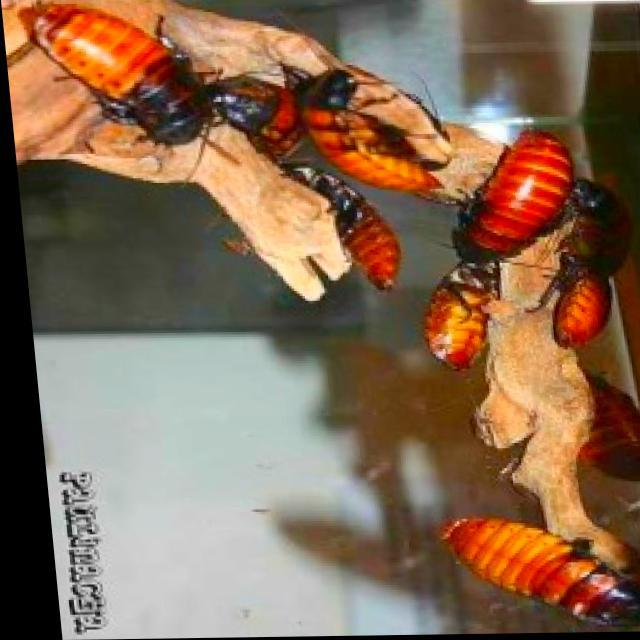cockroach: (42, 1, 216, 167), (438, 511, 640, 639), (296, 56, 456, 206), (441, 112, 579, 278), (291, 156, 419, 309), (420, 242, 518, 391), (548, 153, 628, 291), (215, 59, 300, 172)
